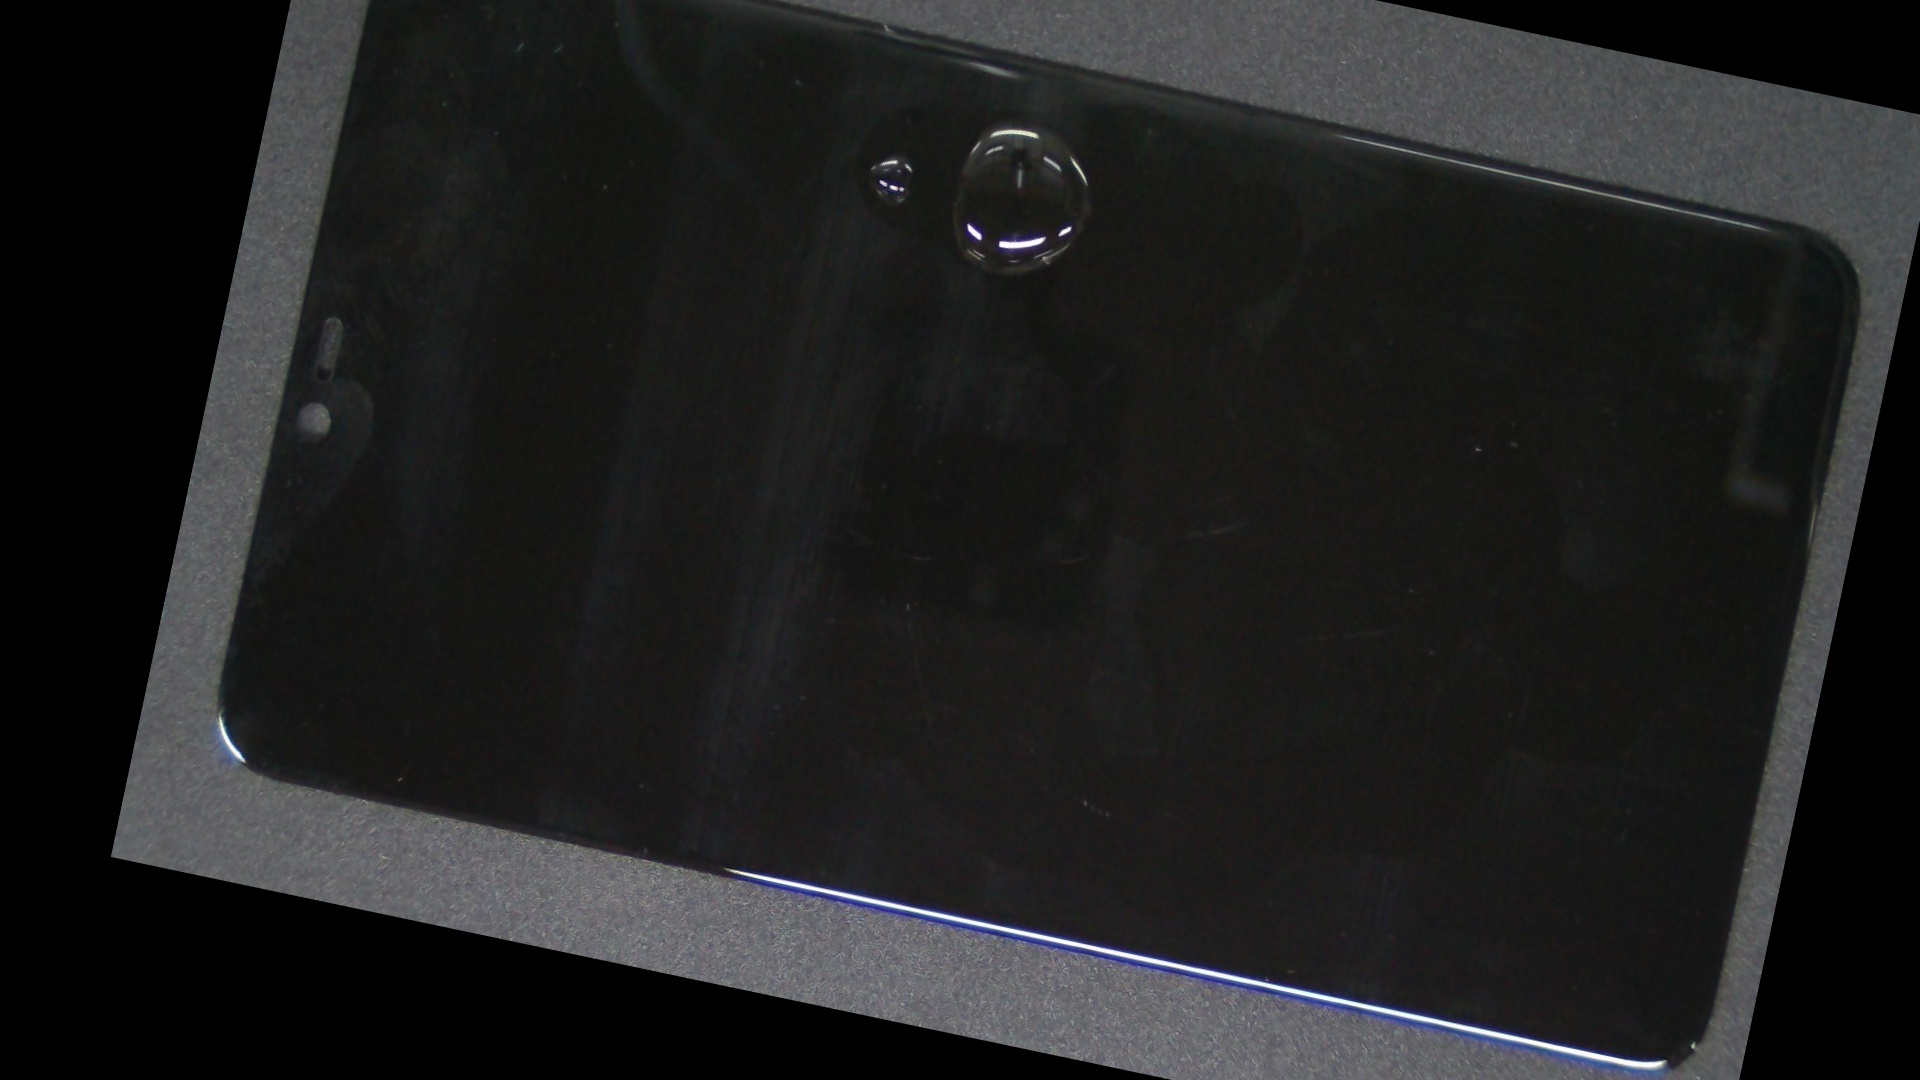oil: (568, 0, 1234, 343), (638, 0, 1394, 290)
